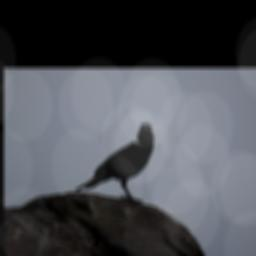Crow: (74, 119, 156, 202)
